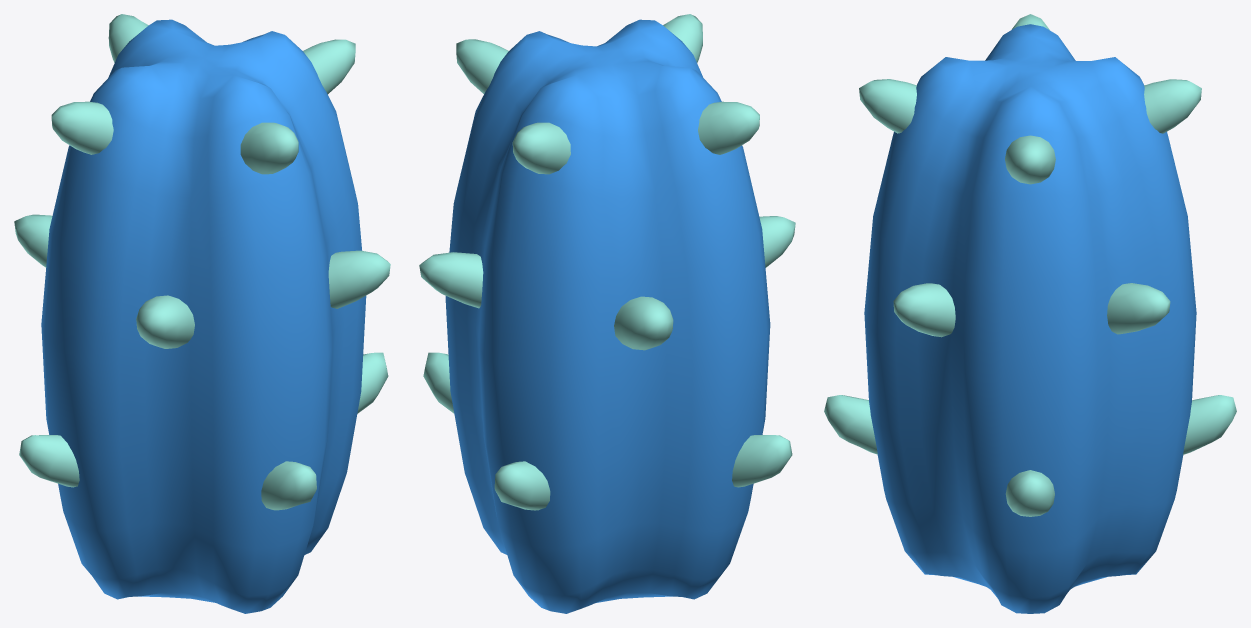
The model's file is Cactus_A_03.fbx.
3 views of the same model, side by side, from view 1: azimuth 30°, elevation 25°; view 2: azimuth 150°, elevation 25°; view 3: azimuth 270°, elevation 25° (orthographic). The views are drawn at different scales.
Parts seen in each view (by area): view 1: Cactus_A_03_LOD0; view 2: Cactus_A_03_LOD0; view 3: Cactus_A_03_LOD0.
Part boxes in pixels (left/top/right/bottom): Cactus_A_03_LOD0: left=14, top=14, right=390, bottom=613; Cactus_A_03_LOD0: left=419, top=14, right=795, bottom=613; Cactus_A_03_LOD0: left=824, top=14, right=1236, bottom=613.
Size of what is drawn, in the model's own units: 467 by 652 by 467.
